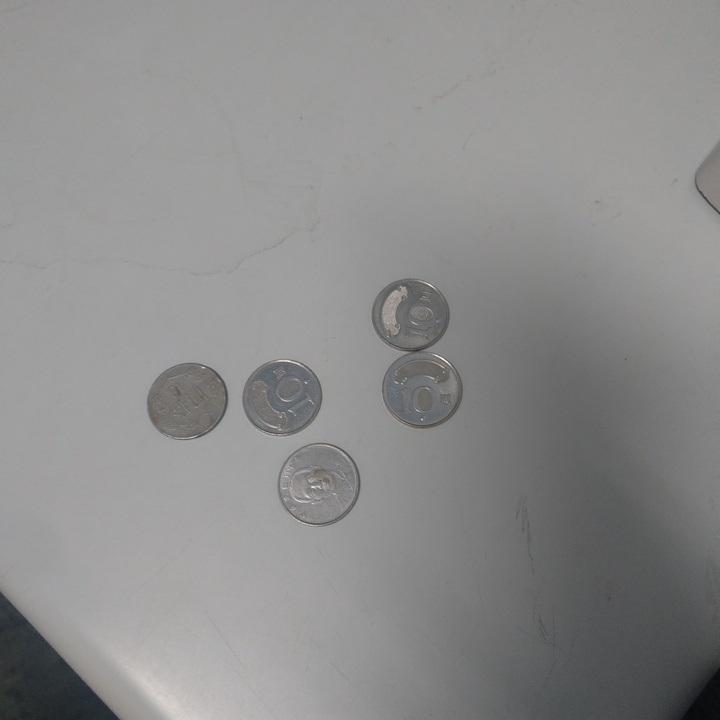10 dollar: (278, 441, 362, 529), (244, 358, 326, 439), (148, 363, 229, 441), (372, 275, 454, 352), (383, 352, 461, 430)
